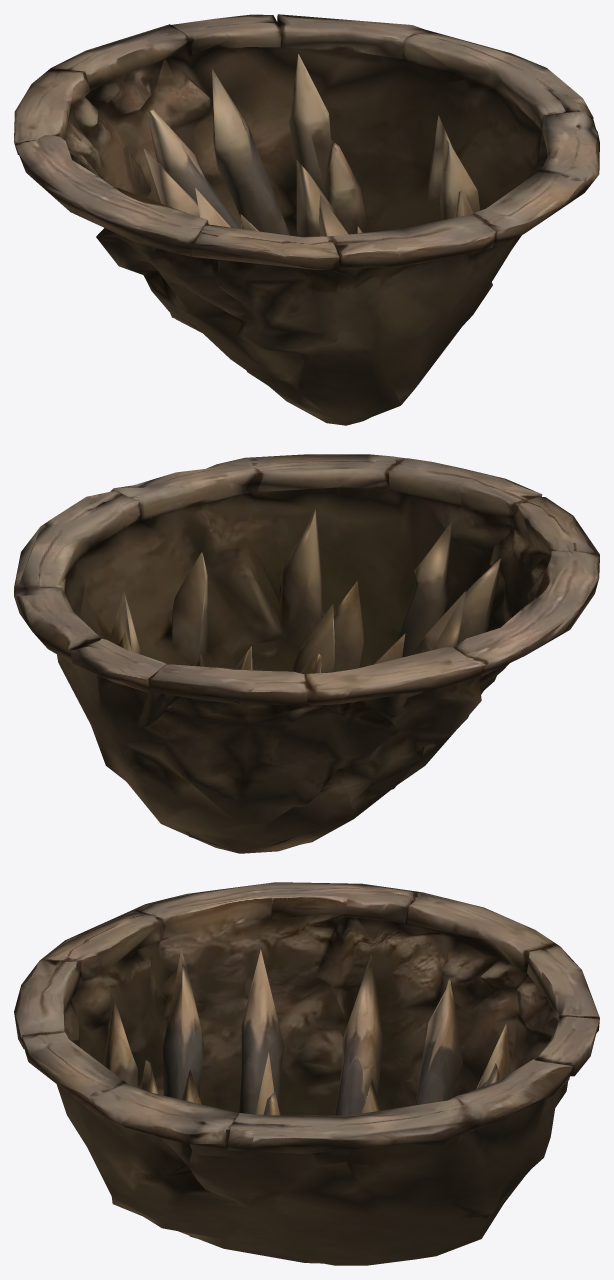
Rendered from trap_spike_pit.glb.
The picture shows the model from 3 angles, top to bottom: view 1: azimuth 30°, elevation 25°; view 2: azimuth 150°, elevation 25°; view 3: azimuth 270°, elevation 25°; orthographic projection.
Parts seen in each view (by area): view 1: spike_pit; view 2: spike_pit; view 3: spike_pit.
Boxes of the visible parts, x1,y1,x2,y2 form: spike_pit: (14, 14, 599, 425); spike_pit: (14, 454, 599, 853); spike_pit: (14, 882, 599, 1265).
Bounding box in the file's own units: 0.9691 × 0.4988 × 0.9796.
Materials: 1 (1 with a texture image).
